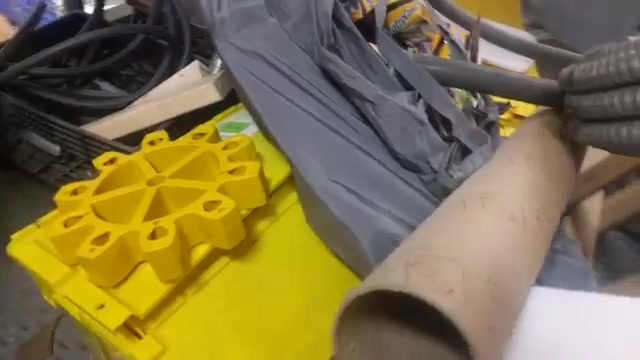gear: (47, 108, 254, 292)
